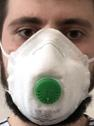with_mask: (2, 1, 94, 126)
